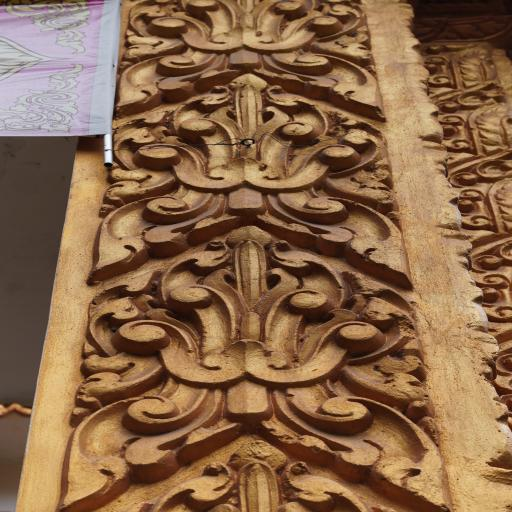la: (80, 231, 458, 506), (90, 78, 427, 282), (113, 0, 392, 122), (68, 428, 449, 512)
